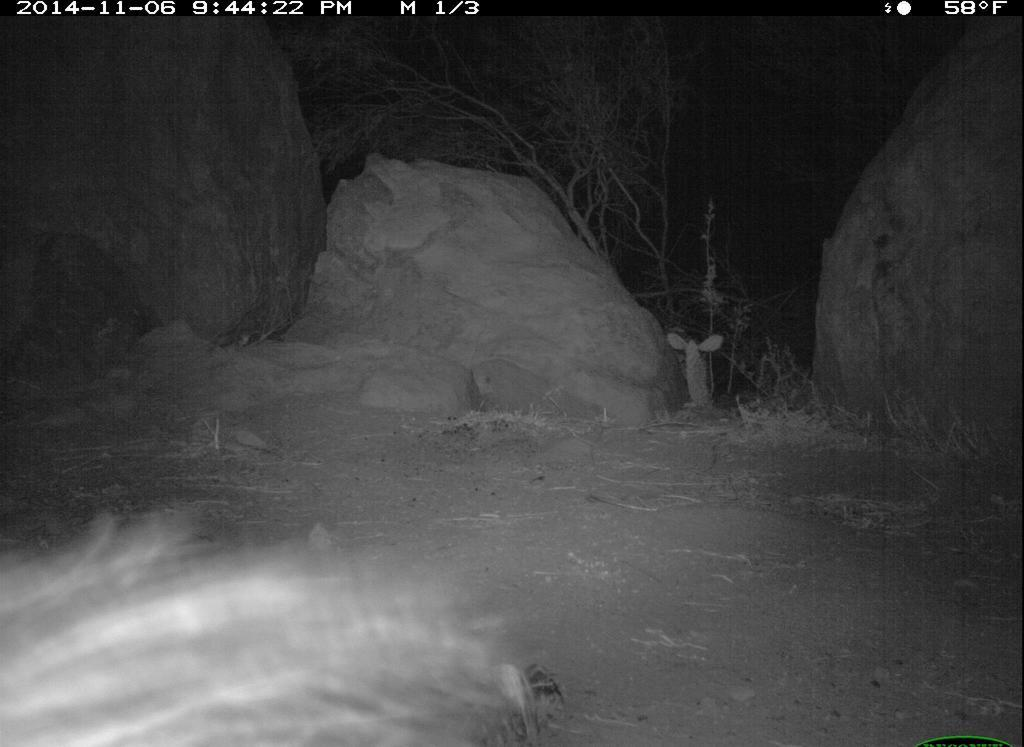skunk: (2, 505, 511, 747)
